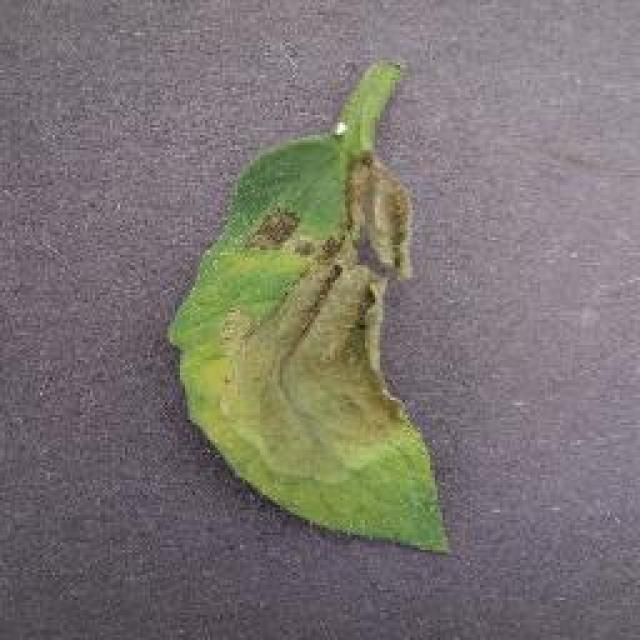Tomato Late Blight: (204, 173, 458, 455)
